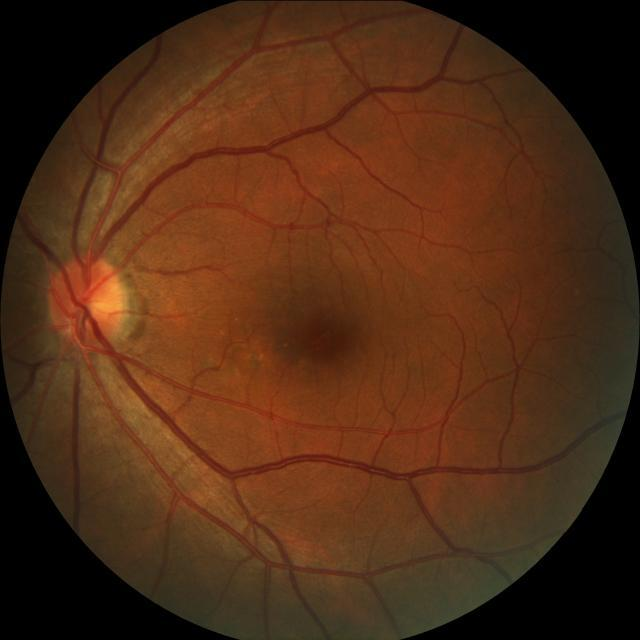OC: (73, 291, 108, 326)
OD: (45, 254, 126, 348)
